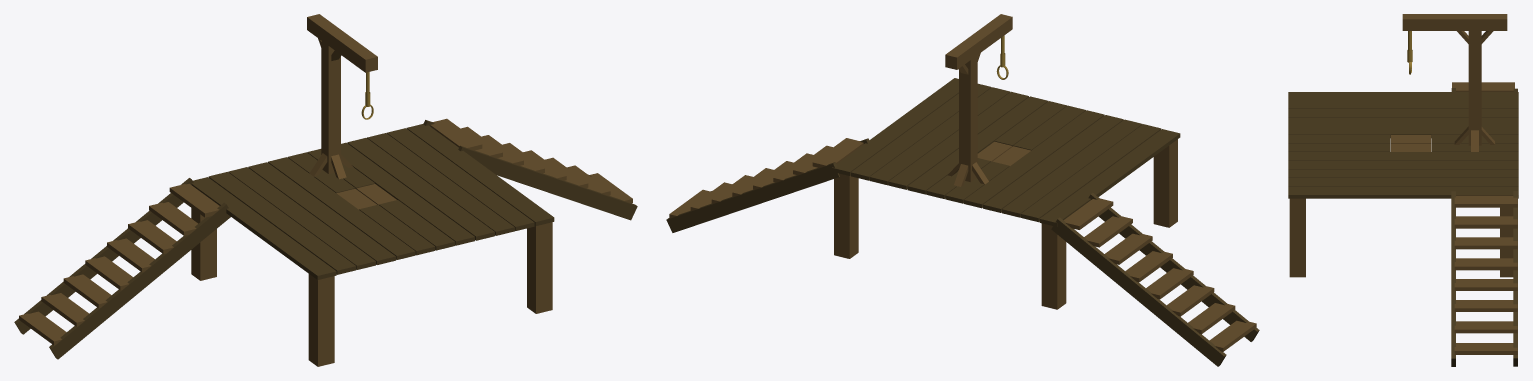
Rendered from GALLOWS!.fbx.
3 views of the same model, side by side, from view 1: azimuth 30°, elevation 25°; view 2: azimuth 150°, elevation 25°; view 3: azimuth 270°, elevation 25° (orthographic). The views are drawn at different scales.
Visible parts, largest first — view 1: Cube.081, Cube.025, Cube, Cube.001, Cube.008, Cube.004, Cube.003, Cube.011, Cube.009, Cube.010, Cube.002, Cube.007 (+8 smaller); view 2: Cube.081, Cube.025, Cube, Cube.001, Cube.004, Cube.003, Cube.002, Cube.011, Cube.008, Cube.009, Cube.007, Cube.010 (+8 smaller); view 3: Cube.025, Cube.011, Cube.008, Cube.007, Cube.009, Cube.010, Cube.001, Cube.002, Cube.003, Cube, Cube.004, Cube.022 (+7 smaller).
Part boxes in pixels (left/top/right/bottom): Cube.081: left=14, top=178, right=230, bottom=359; Cube.025: left=423, top=118, right=637, bottom=220; Cube: left=191, top=177, right=336, bottom=279; Cube.001: left=208, top=172, right=356, bottom=274; Cube.008: left=347, top=138, right=494, bottom=240; Cube.004: left=268, top=157, right=415, bottom=259; Cube.003: left=248, top=162, right=395, bottom=264; Cube.011: left=406, top=124, right=554, bottom=226; Cube.009: left=367, top=133, right=514, bottom=235; Cube.010: left=387, top=128, right=534, bottom=230; Cube.002: left=228, top=167, right=375, bottom=269; Cube.007: left=341, top=142, right=474, bottom=245; Cube.081: left=1051, top=193, right=1259, bottom=366; Cube.025: left=666, top=138, right=869, bottom=232; Cube: left=1039, top=129, right=1180, bottom=226; Cube.001: left=1020, top=124, right=1161, bottom=222; Cube.004: left=964, top=110, right=1104, bottom=208; Cube.003: left=983, top=115, right=1123, bottom=212; Cube.002: left=1002, top=119, right=1142, bottom=217; Cube.011: left=832, top=78, right=958, bottom=175; Cube.008: left=888, top=91, right=1028, bottom=189; Cube.009: left=869, top=87, right=1010, bottom=185; Cube.007: left=907, top=96, right=1048, bottom=194; Cube.010: left=851, top=83, right=991, bottom=180; Cube.025: left=1451, top=191, right=1517, bottom=366; Cube.011: left=1288, top=186, right=1518, bottom=198; Cube.008: left=1288, top=160, right=1518, bottom=169; Cube.007: left=1288, top=152, right=1518, bottom=160; Cube.009: left=1288, top=169, right=1518, bottom=177; Cube.010: left=1288, top=178, right=1518, bottom=186; Cube.001: left=1288, top=100, right=1518, bottom=108; Cube.002: left=1288, top=109, right=1518, bottom=117; Cube.003: left=1288, top=117, right=1518, bottom=125; Cube: left=1288, top=92, right=1518, bottom=100; Cube.004: left=1288, top=126, right=1518, bottom=137; Cube.022: left=1402, top=14, right=1507, bottom=30.
Bounding box in the file's own units: 4709 × 1935 × 1795.
